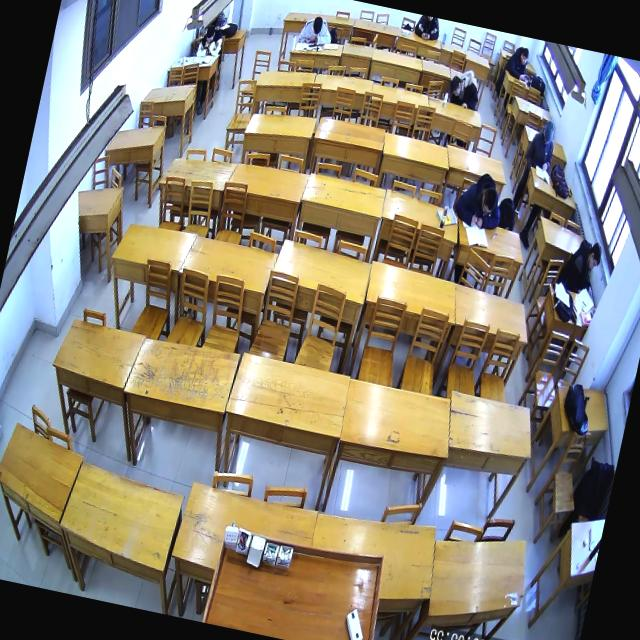bow: (452, 168, 508, 230)
down: (478, 186, 498, 216), (587, 242, 604, 272), (540, 122, 556, 146), (448, 76, 463, 97), (310, 15, 324, 36), (203, 24, 216, 44), (518, 46, 530, 66)
sit: (559, 236, 603, 296), (524, 118, 560, 173), (446, 68, 482, 111), (296, 12, 335, 48), (195, 22, 227, 61), (504, 44, 533, 80)
